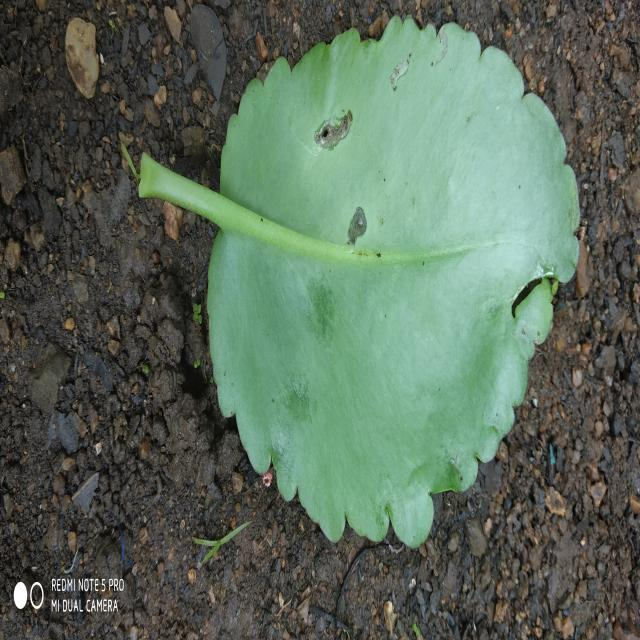defectedspinach: (266, 208, 444, 268), (314, 110, 352, 150)
spinach: (139, 18, 579, 545)
